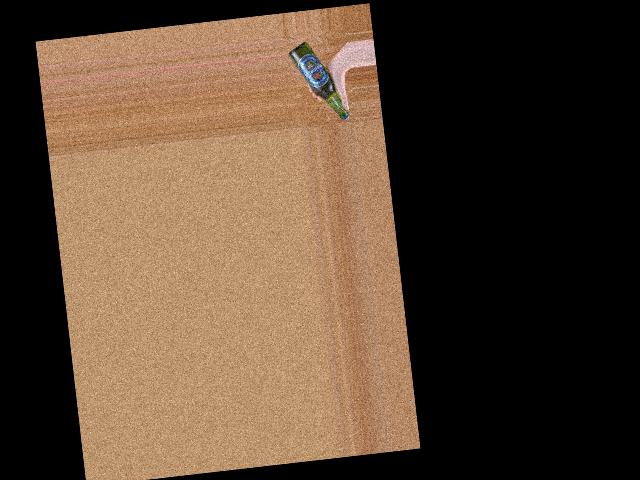beer: (287, 37, 350, 126)
